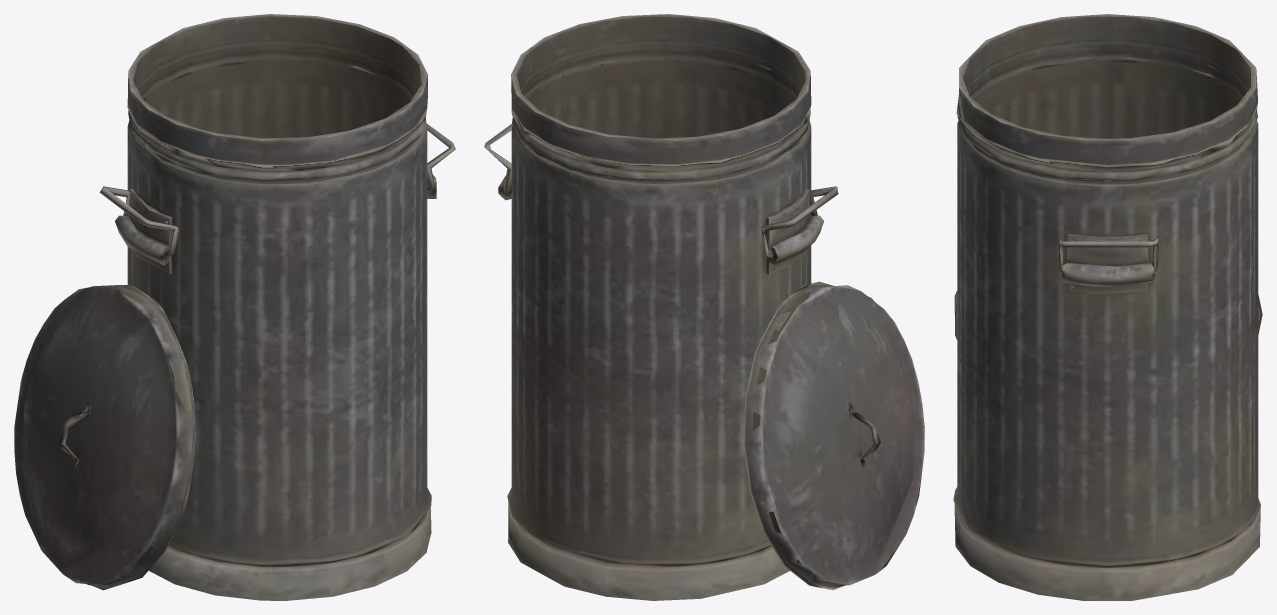
Rendered from metal_trash_can.glb.
3 renders of one model, left to right at view 1: azimuth 30°, elevation 25°; view 2: azimuth 150°, elevation 25°; view 3: azimuth 270°, elevation 25°, orthographic.
Visible parts, largest first — view 1: metal_trash_can_handle_left; view 2: metal_trash_can_handle_left; view 3: metal_trash_can_handle_left.
Boxes of the visible parts, x1,y1,x2,y2 form: metal_trash_can_handle_left: (14, 14, 455, 600); metal_trash_can_handle_left: (484, 14, 924, 600); metal_trash_can_handle_left: (953, 14, 1262, 600).
Size of the model in its own units: 0.7771 by 0.9062 by 0.5533.
1 material, 1 textured.
